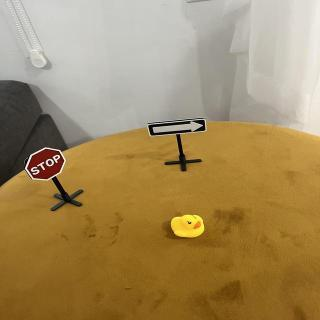duck_regular: (170, 214, 207, 240)
sign_oneway_right: (147, 118, 209, 139)
sign_stop: (25, 148, 68, 183)
